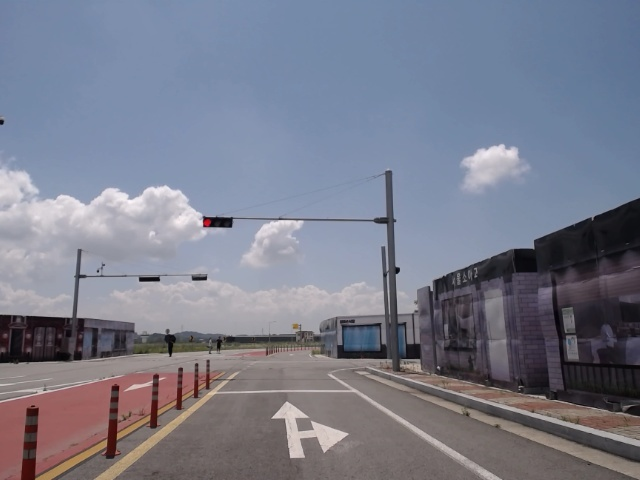red_3: (204, 215, 233, 227)
